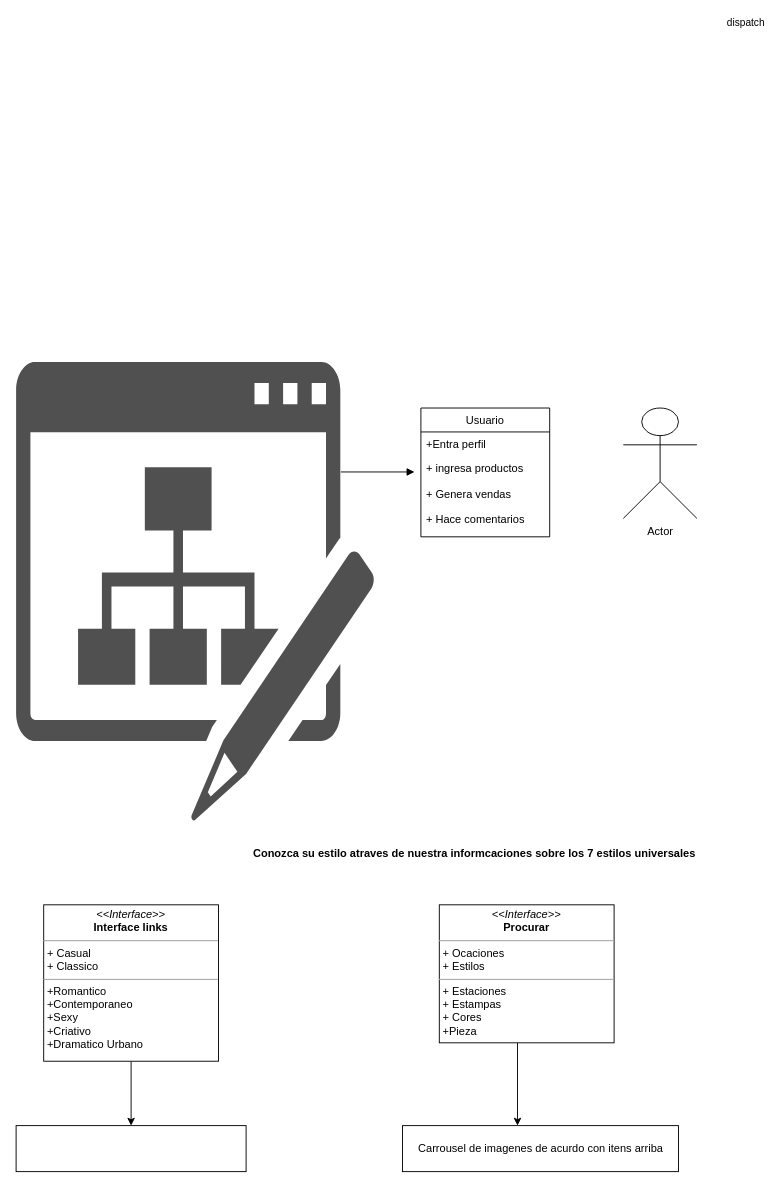
This 780x1188 diagram has some shape labels left out. The centre of each missing label's shape, as x and y in pixels:
Carrousel de imagenes de estilo aelatorio: the point at 130,1148
Guia Closet: the point at 195,592
